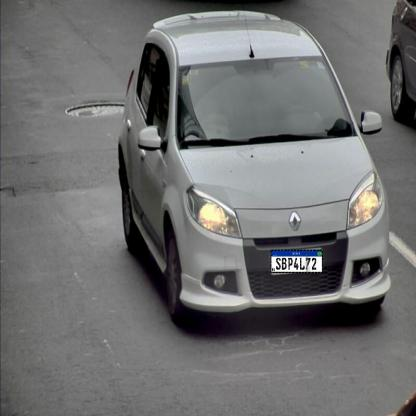PlacaM: (270, 250, 323, 273)
